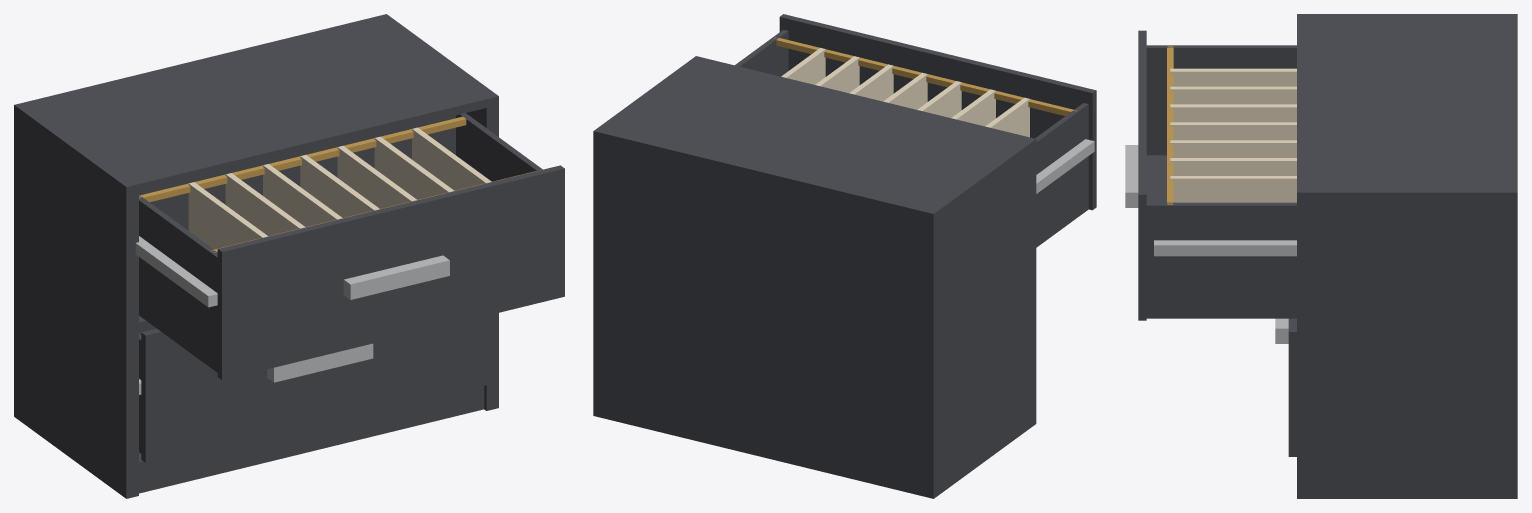
File: FN_Cabinet_Lateral.glb
The picture shows the model from 3 angles, left to right: view 1: azimuth 30°, elevation 25°; view 2: azimuth 150°, elevation 25°; view 3: azimuth 270°, elevation 25°; orthographic projection. The views are drawn at different scales.
Parts seen in each view (by area): view 1: FN_Cabinet_Lateral; view 2: FN_Cabinet_Lateral; view 3: FN_Cabinet_Lateral.
Part boxes in pixels (x1=…): FN_Cabinet_Lateral: x1=14, y1=14, x2=564, y2=498; FN_Cabinet_Lateral: x1=593, y1=14, x2=1096, y2=498; FN_Cabinet_Lateral: x1=1125, y1=14, x2=1517, y2=498.
Bounding box in the file's own units: 0.9 × 0.72 × 0.836.
1 material, 1 textured.
